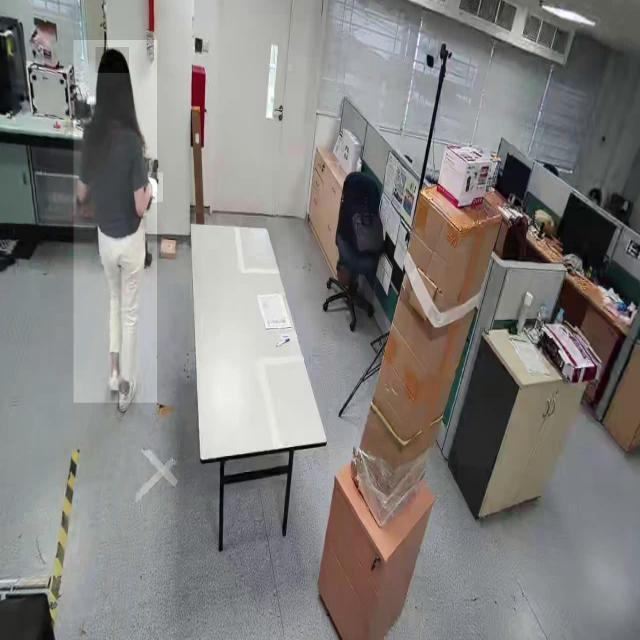hand_glove: (150, 172, 164, 202)
head_nohelmet: (96, 47, 130, 74)
person: (74, 40, 158, 404)
